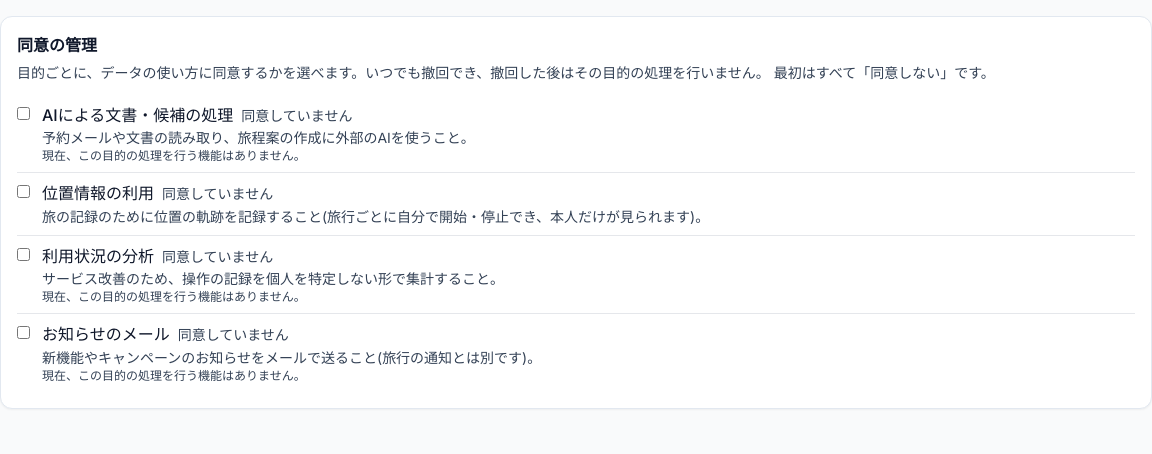
Test case: ConsentsCard (Gate P9) › 保存の失敗はエラー表示
This screenshot has width=1152, height=454.
Click the checkbox labelled "位置情報の利用": (24, 192) [17, 185, 30, 198]
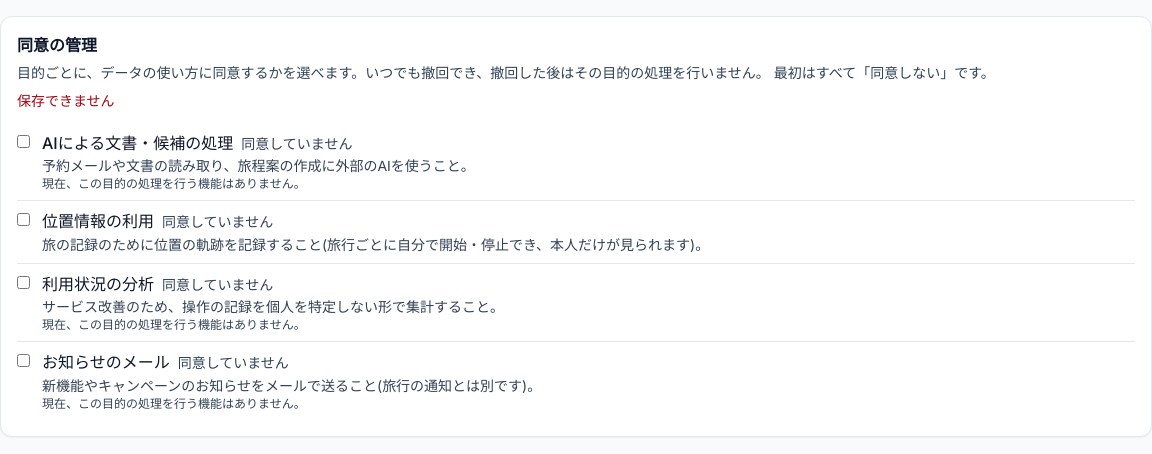
Check: the checkbox labelled "位置情報の利用" is not checked, box [17, 213, 30, 226]
Check: the message reads "保存できません", box [17, 92, 115, 109]
